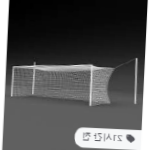goals: (11, 63, 115, 109)
